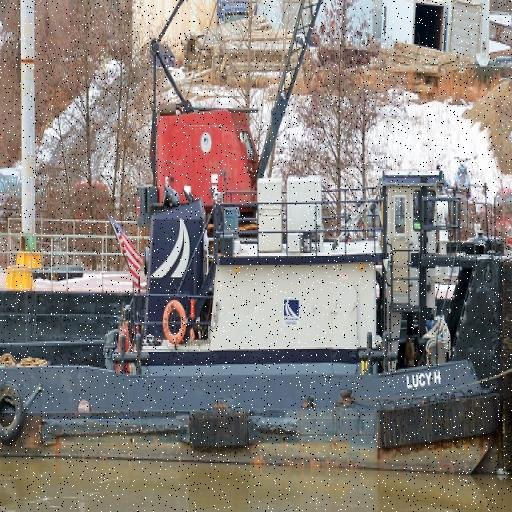tugboat: (1, 164, 512, 496)
